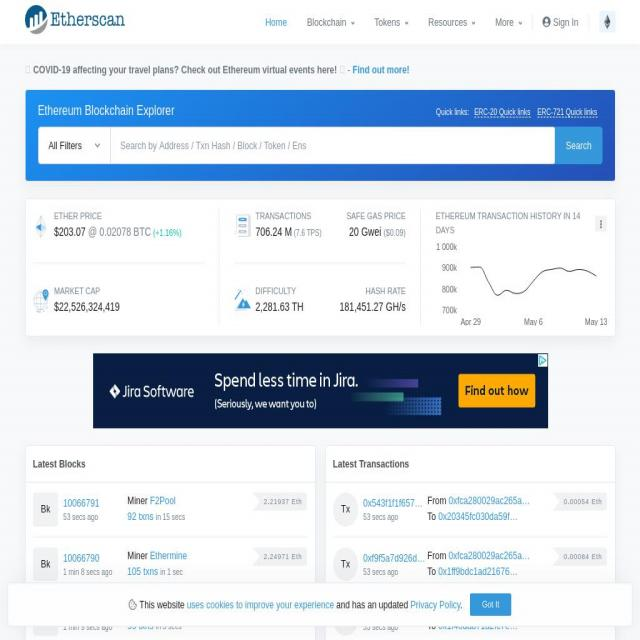login-option: (543, 8, 583, 38)
navigation-links: (259, 4, 528, 35)
options: (492, 8, 531, 37)
search: (35, 118, 614, 172)
